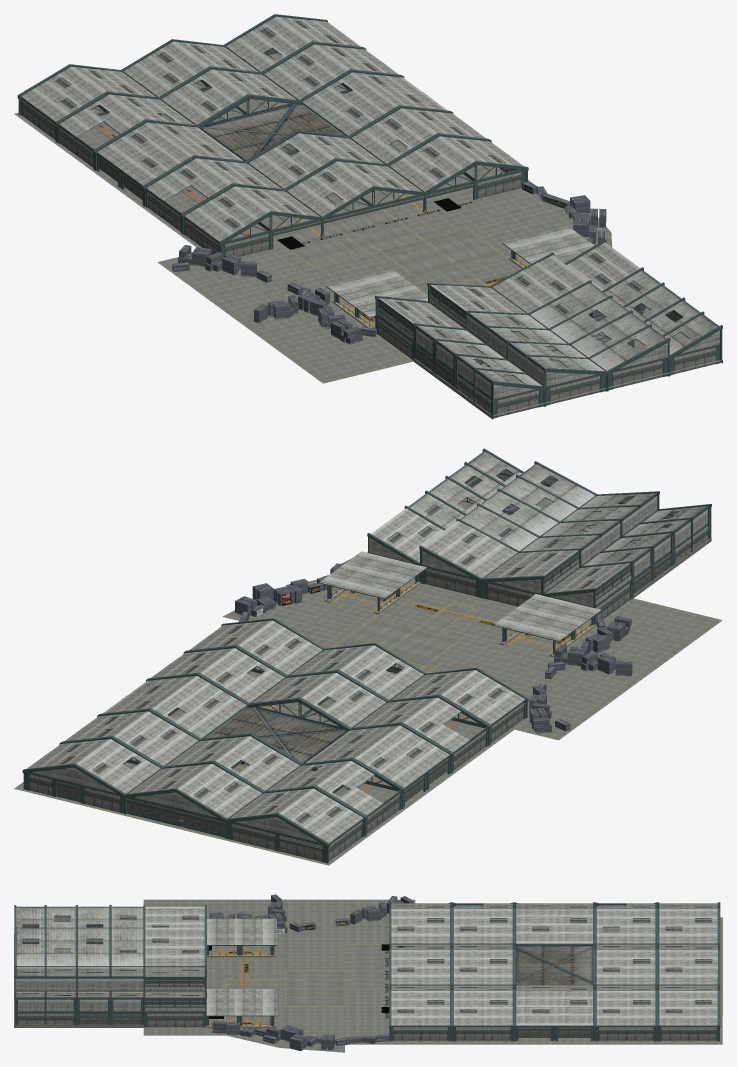
The model's file is nfs.glb.
3 renders of one model, top to bottom at view 1: azimuth 30°, elevation 25°; view 2: azimuth 150°, elevation 25°; view 3: azimuth 270°, elevation 25°, orthographic. The views are drawn at different scales.
Parts seen in each view (by area): view 1: 3DSMeshMatrix; view 2: 3DSMeshMatrix; view 3: 3DSMeshMatrix.
Boxes of the visible parts, box(x1,y1,x2,y2) form: 3DSMeshMatrix: box(14, 14, 722, 419); 3DSMeshMatrix: box(14, 448, 722, 865); 3DSMeshMatrix: box(14, 894, 722, 1052).
Bounding box in the file's own units: 2195 × 212 × 4297.
Materials: 17 (16 with a texture image).
